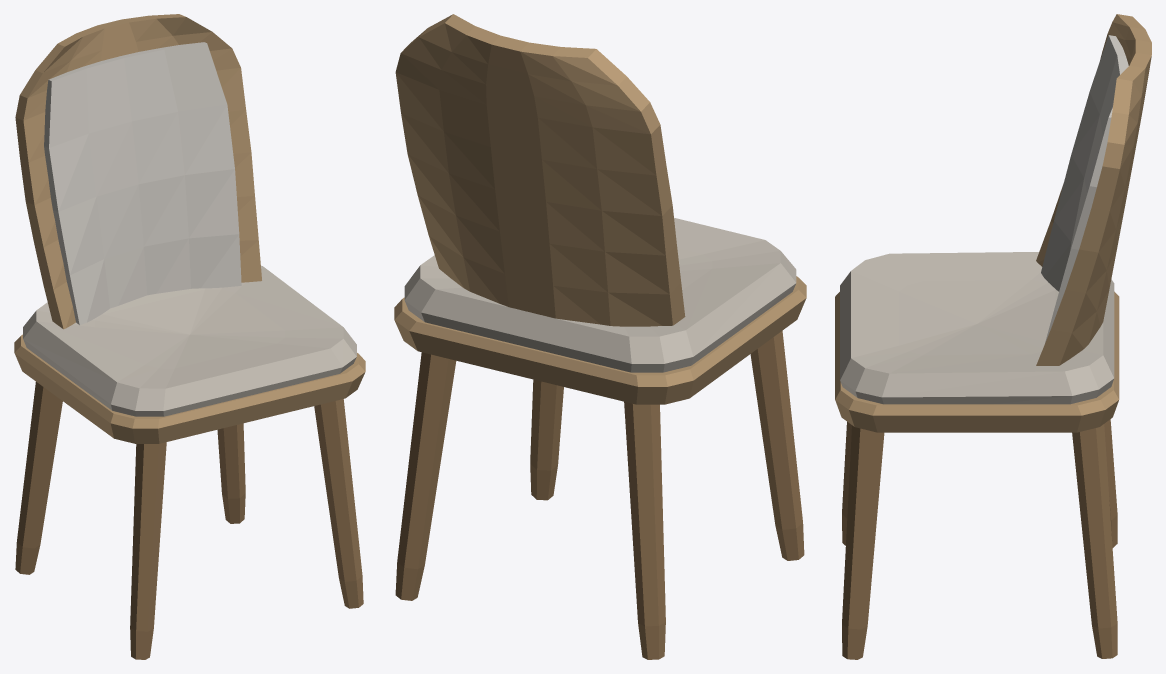
The model's file is dining-chair-530532.glb.
3 renders of one model, left to right at view 1: azimuth 30°, elevation 25°; view 2: azimuth 150°, elevation 25°; view 3: azimuth 270°, elevation 25°, orthographic. The views are drawn at different scales.
Visible parts, largest first — view 1: chair-frame, seat-pad; view 2: chair-frame, seat-pad; view 3: chair-frame, seat-pad.
Boxes of the visible parts, left/top/right/bottom form: chair-frame: left=14, top=14, right=365, bottom=659; seat-pad: left=23, top=265, right=356, bottom=416; chair-frame: left=394, top=14, right=806, bottom=659; seat-pad: left=404, top=218, right=796, bottom=372; chair-frame: left=835, top=14, right=1151, bottom=659; seat-pad: left=840, top=252, right=1114, bottom=404.
Size of the model in its own units: 0.45 by 0.862 by 0.4459.
